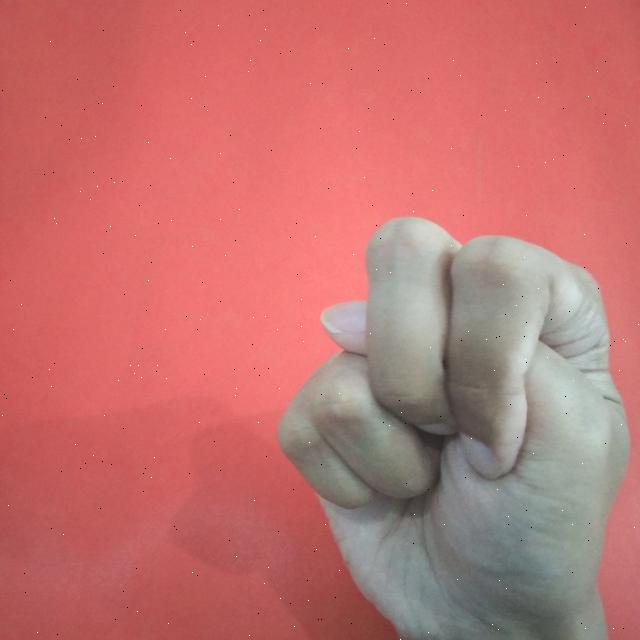N: (273, 211, 640, 640)
